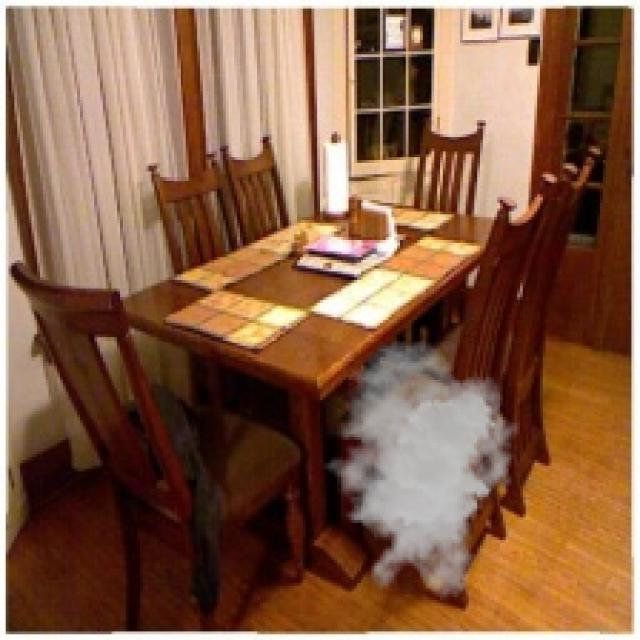smoke: (314, 340, 520, 600)
